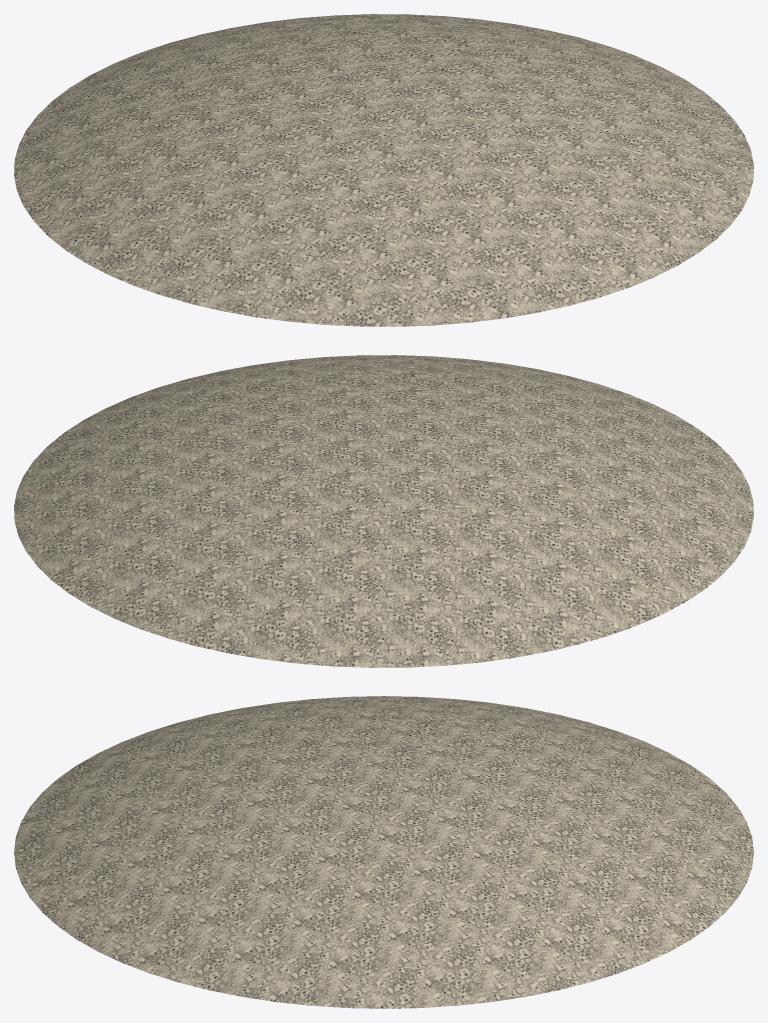
Rendered from GroundHeapNormalMap.fbx.
3 renders of one model, top to bottom at view 1: azimuth 30°, elevation 25°; view 2: azimuth 150°, elevation 25°; view 3: azimuth 270°, elevation 25°, orthographic.
Visible parts, largest first — view 1: Ground2; view 2: Ground2; view 3: Ground2.
Boxes of the visible parts, <box> form: Ground2: <box>14,14,753,326</box>; Ground2: <box>14,355,753,667</box>; Ground2: <box>14,696,753,1008</box>.
Size of what is drawn, in the model's own units: 513 by 57.61 by 513.
